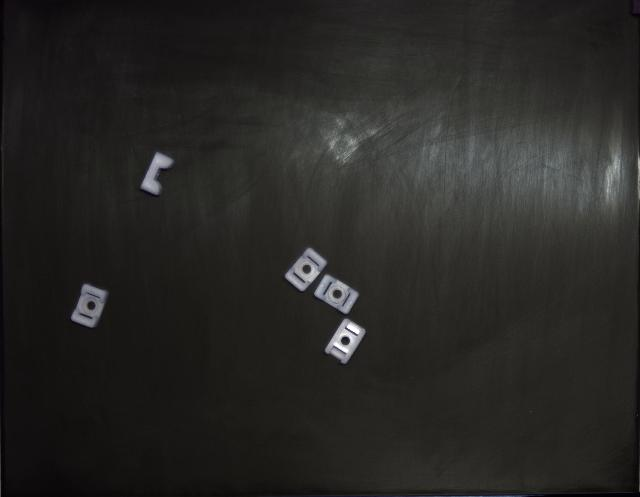first_side: (285, 248, 326, 291), (315, 275, 359, 314), (71, 284, 109, 329)
second_side: (325, 319, 366, 364)
third_side: (140, 152, 175, 196)
